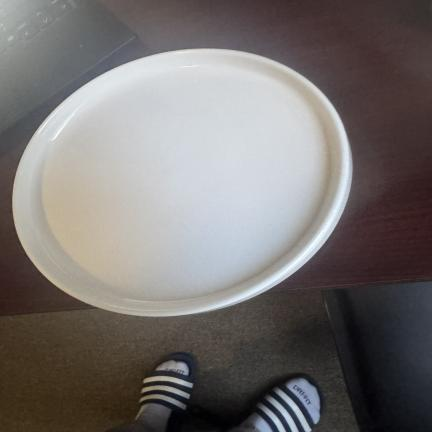plate: (13, 50, 351, 315)
